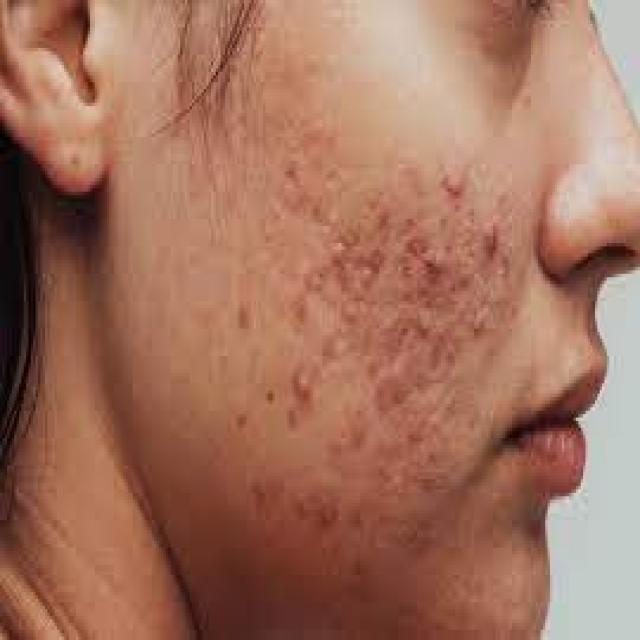Acne: (403, 215, 445, 286), (314, 481, 344, 535), (479, 216, 506, 263), (469, 300, 498, 338), (326, 234, 354, 272), (298, 266, 331, 296), (442, 167, 468, 204), (292, 366, 315, 404), (355, 257, 378, 294), (290, 486, 312, 524), (341, 295, 361, 329)
